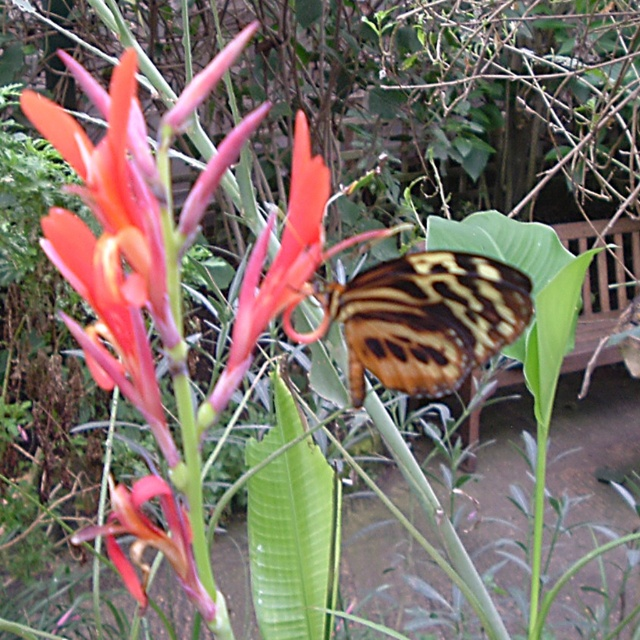Butterfly: (322, 223, 534, 433)
